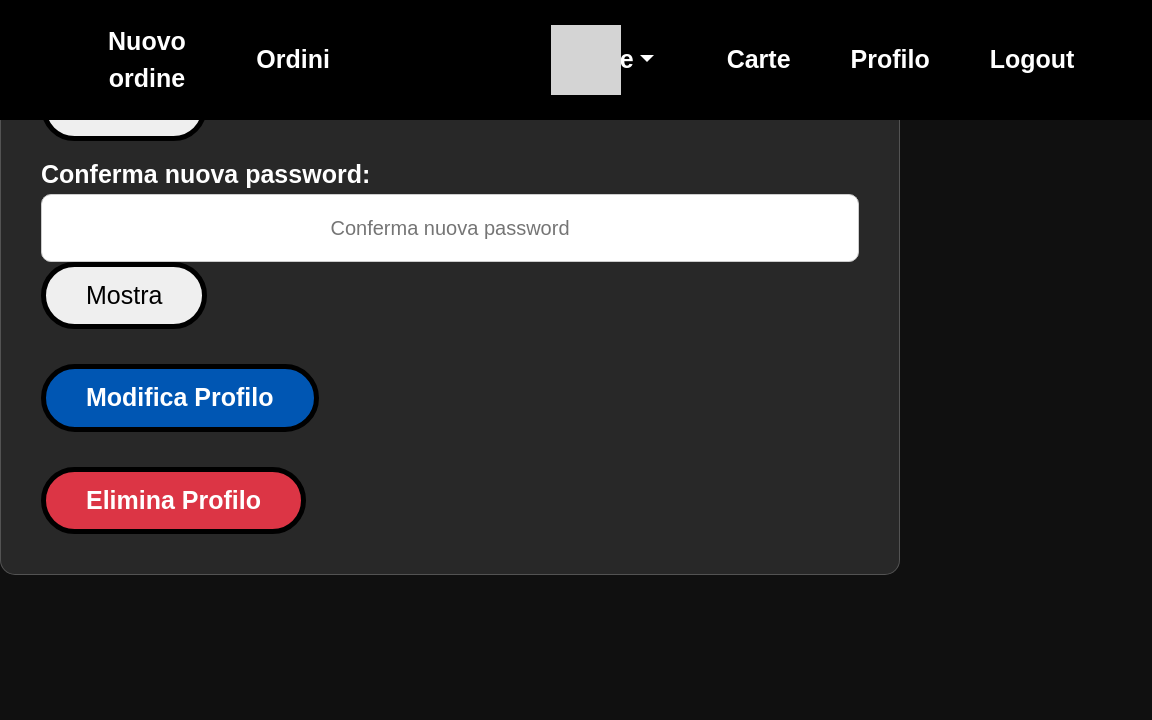
ProfiloCliente Component - Complete Native MSW Suite › TC_PROFILO_CLI_009 - Eliminazione profilo annullata
(page scrolled)
Click the button "Elimina Profilo": (174, 501) x1=41 y1=467 x2=306 y2=534
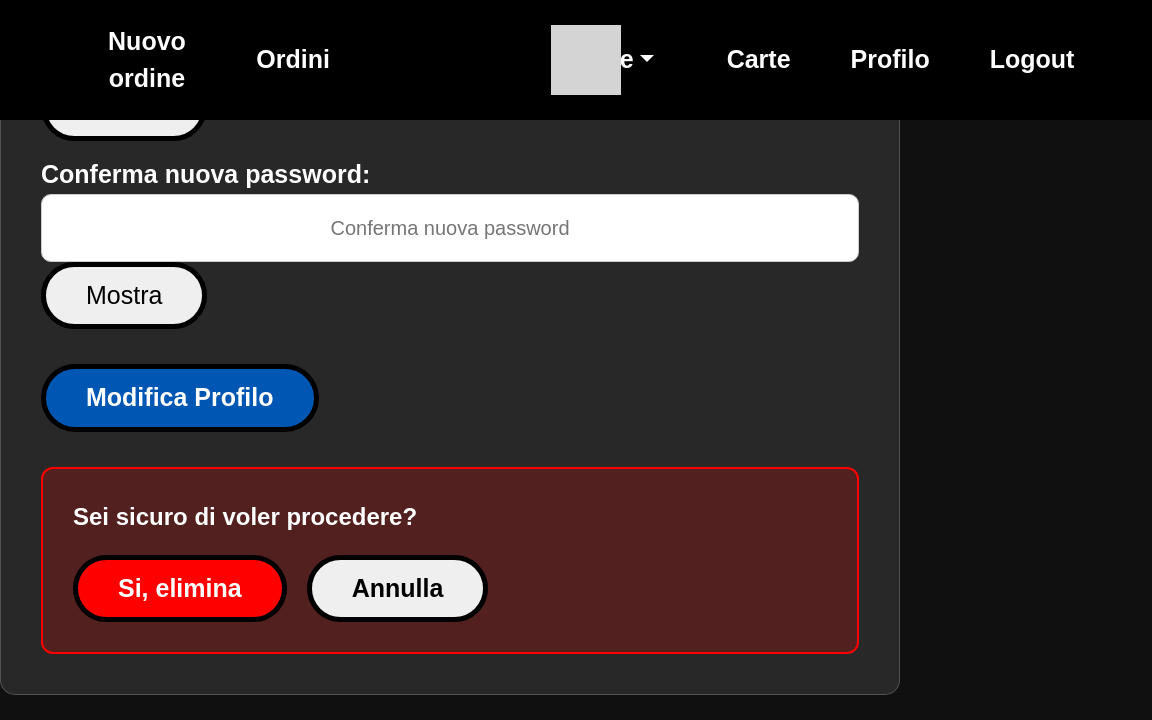
Click the button "Annulla": (398, 589) x1=307 y1=555 x2=488 y2=622
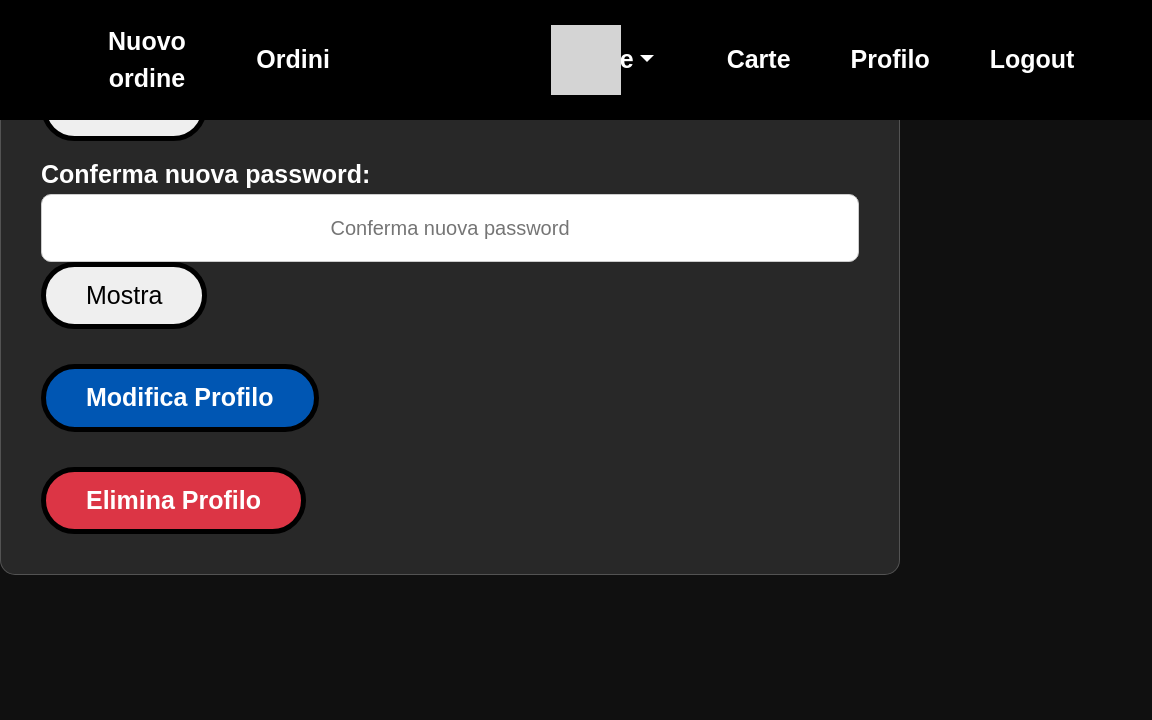
expect the button "Elimina Profilo" is shown: met, box x1=41 y1=467 x2=306 y2=534
